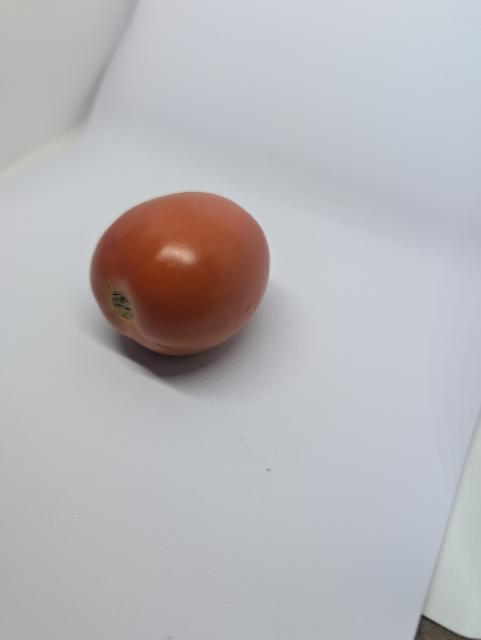red: (82, 176, 298, 376)
